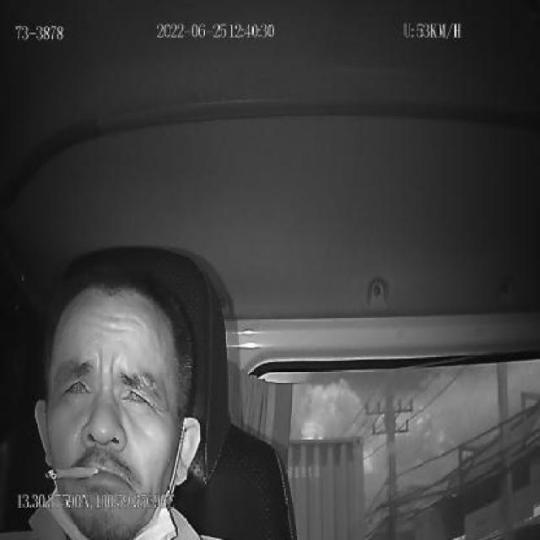smoking: (45, 464, 100, 480)
